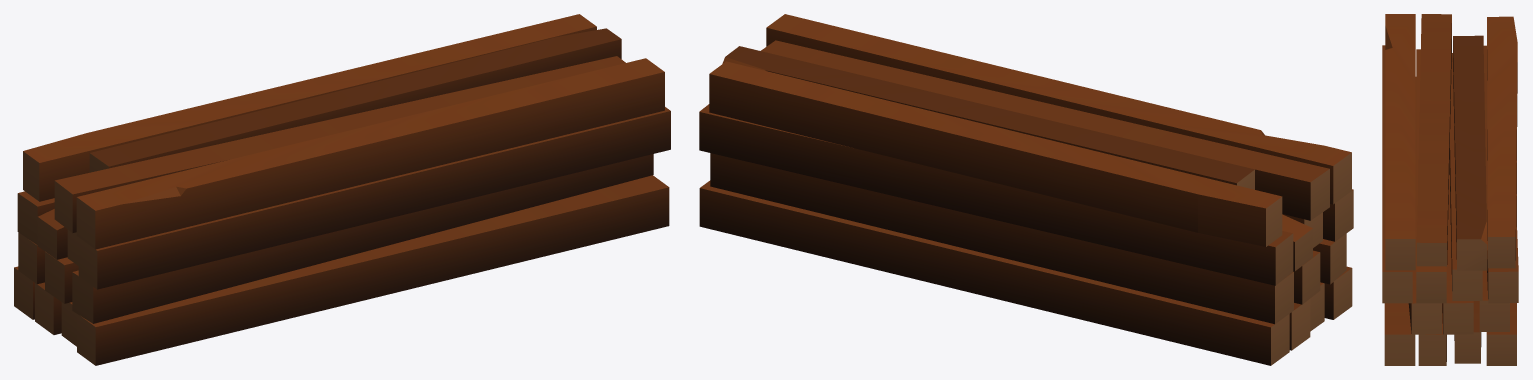
File: Wood_Stack_2A.fbx
3 views of the same model, side by side, from view 1: azimuth 30°, elevation 25°; view 2: azimuth 150°, elevation 25°; view 3: azimuth 270°, elevation 25° (orthographic). The views are drawn at different scales.
Parts seen in each view (by area): view 1: Wood_Stack_2A; view 2: Wood_Stack_2A; view 3: Wood_Stack_2A.
Part boxes in pixels (<box>): Wood_Stack_2A: <box>14,14,670,365</box>; Wood_Stack_2A: <box>699,14,1353,365</box>; Wood_Stack_2A: <box>1382,14,1518,365</box>.
Bounding box in the file's own units: 388 × 100 × 98.66.
